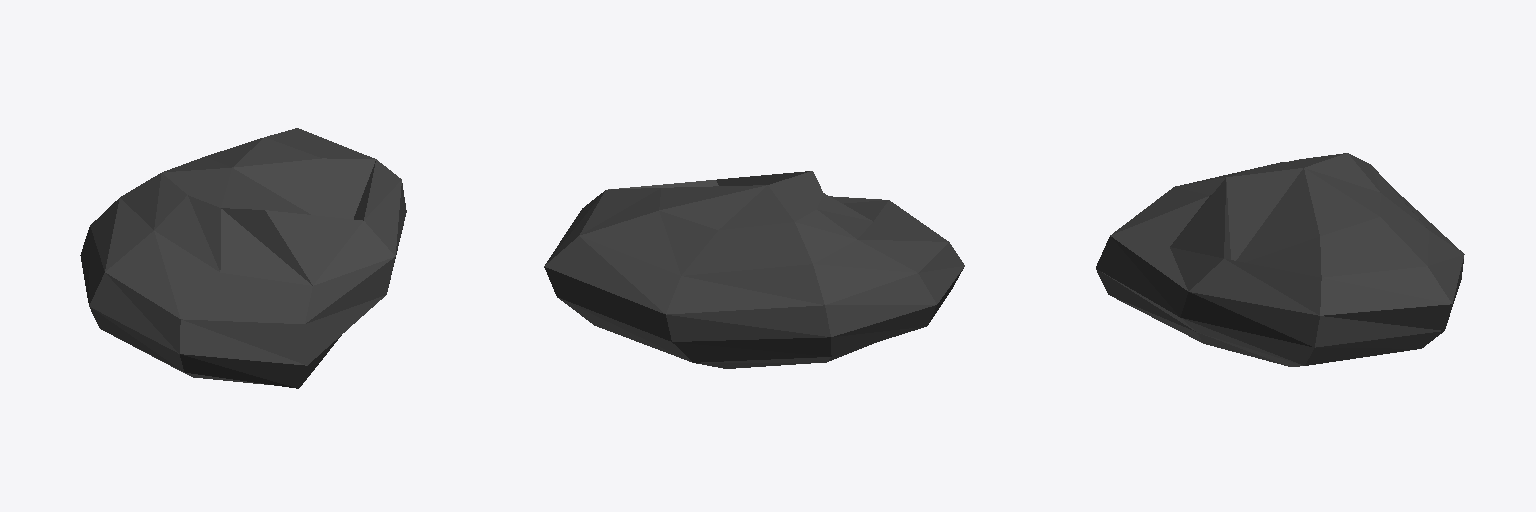
The model's file is Stone.obj.
3 renders of one model, left to right at view 1: azimuth 30°, elevation 25°; view 2: azimuth 150°, elevation 25°; view 3: azimuth 270°, elevation 25°, orthographic.
Parts seen in each view (by area): view 1: Sphere; view 2: Sphere; view 3: Sphere.
Part boxes in pixels (x1,y1,x2,y2): Sphere: (80, 128, 406, 388); Sphere: (544, 171, 964, 368); Sphere: (1096, 153, 1464, 366).
Size of the model in its own units: 2.98 by 1.4 by 2.84.